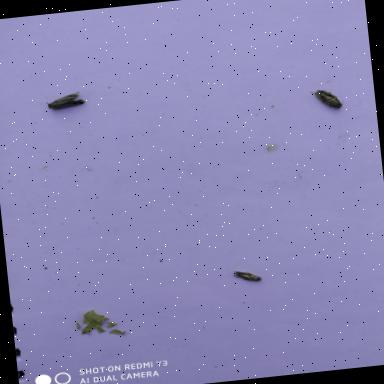pbw: (308, 84, 348, 114), (44, 89, 88, 112), (230, 266, 264, 286)
